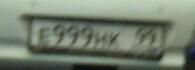license-plateSW: (30, 18, 162, 55)
